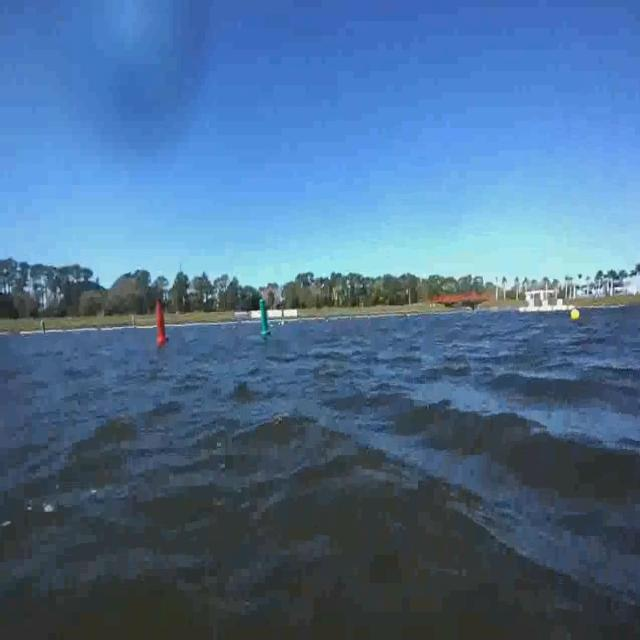green-column-buoy: (258, 298, 270, 324)
red-column-buoy: (152, 294, 169, 353)
